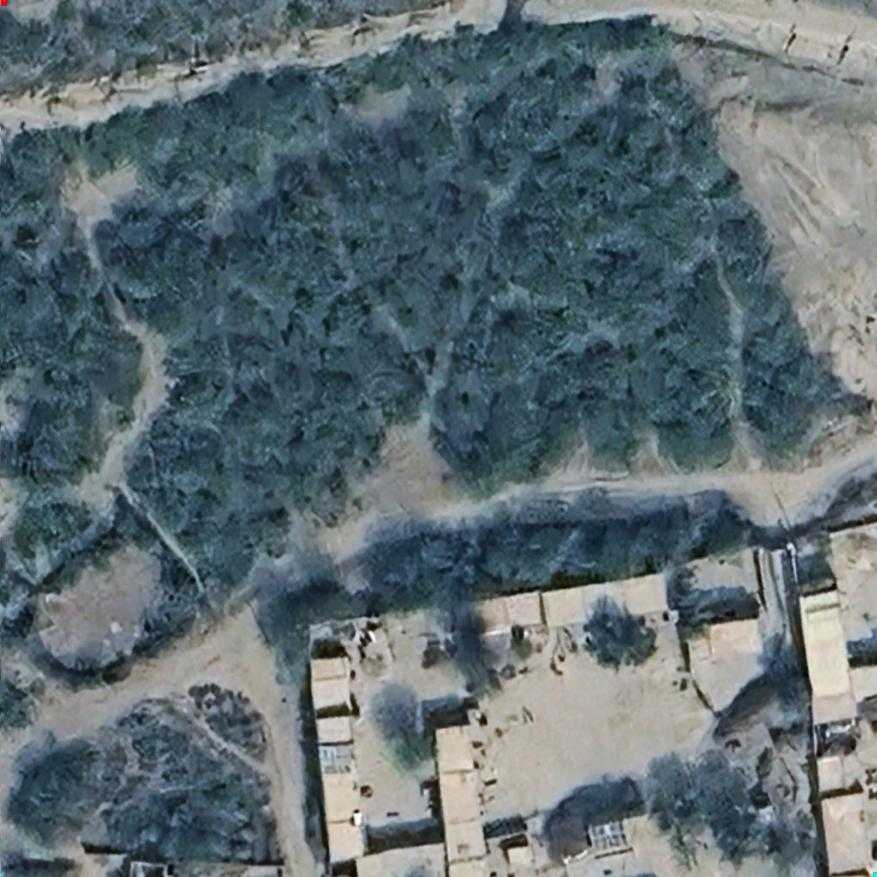Solarpanel: (587, 818, 632, 858), (315, 742, 357, 778)
